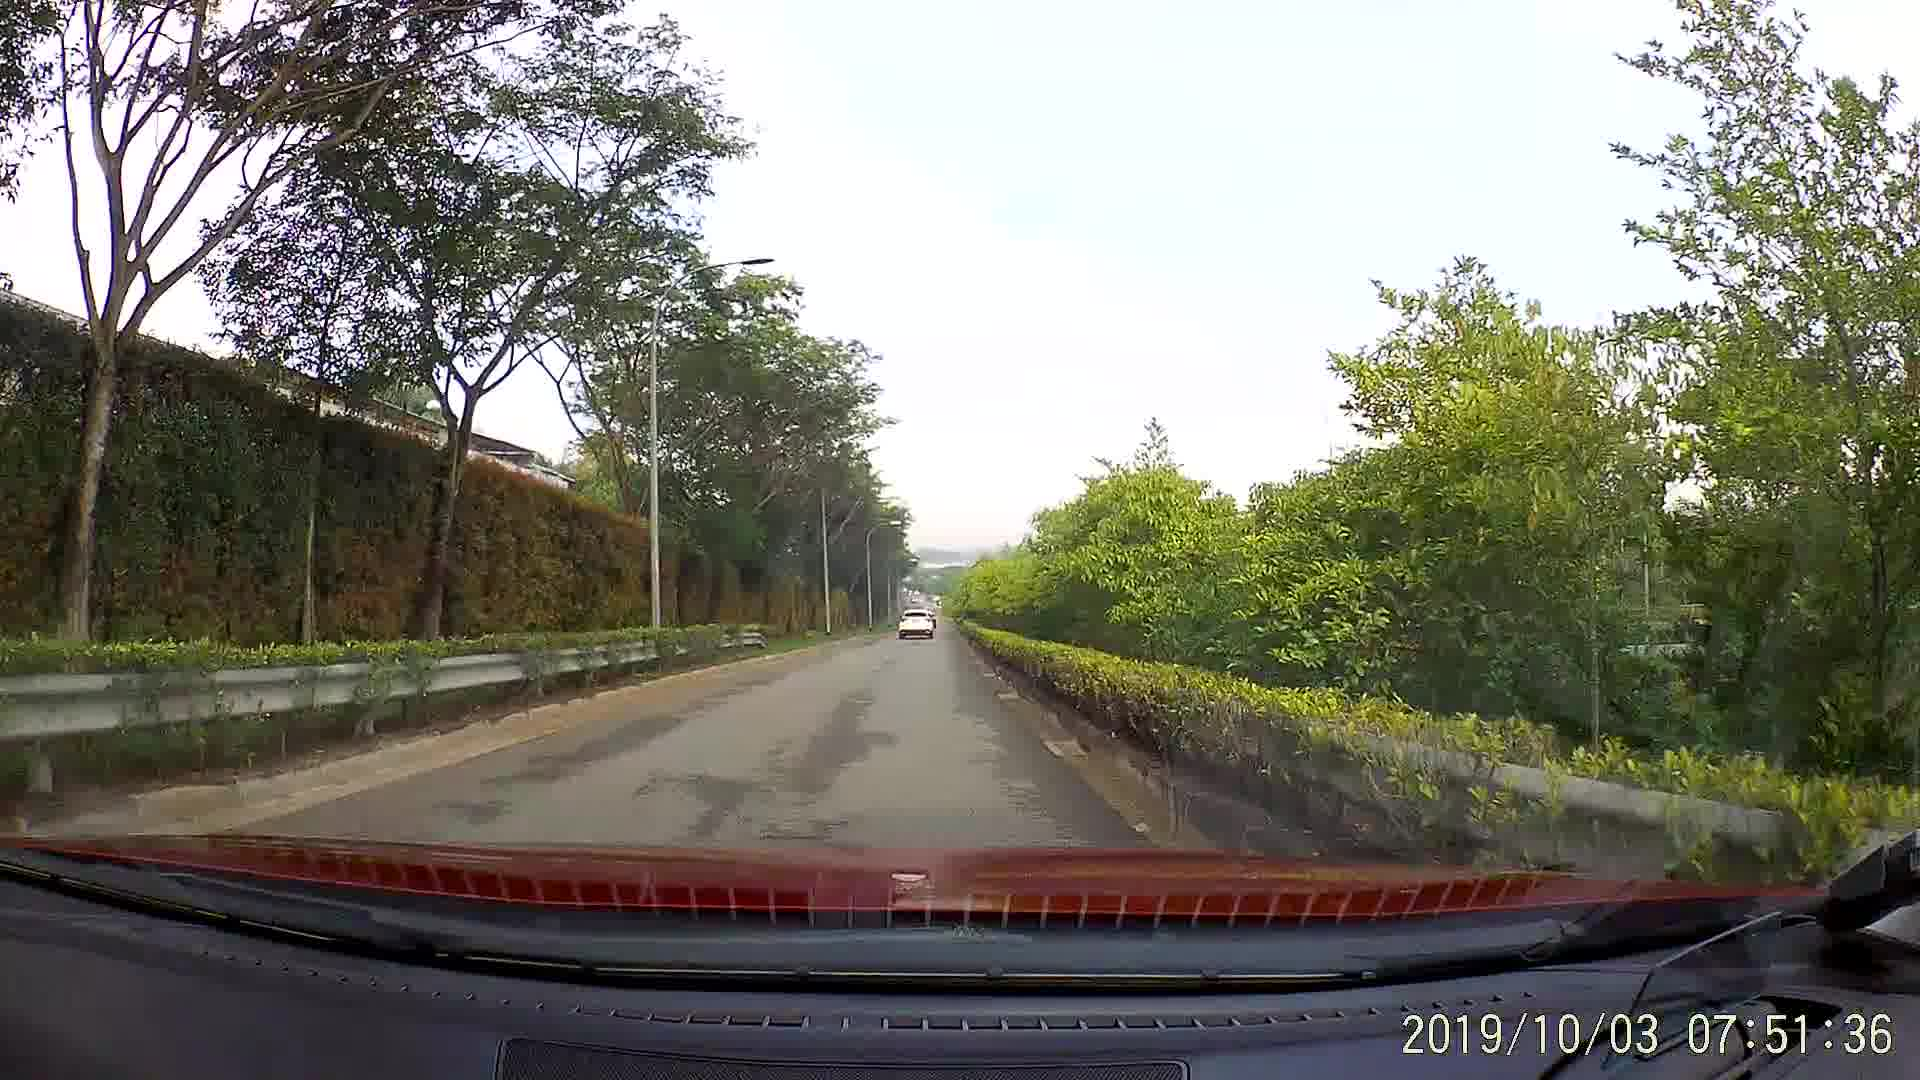car: (898, 607, 934, 640)
